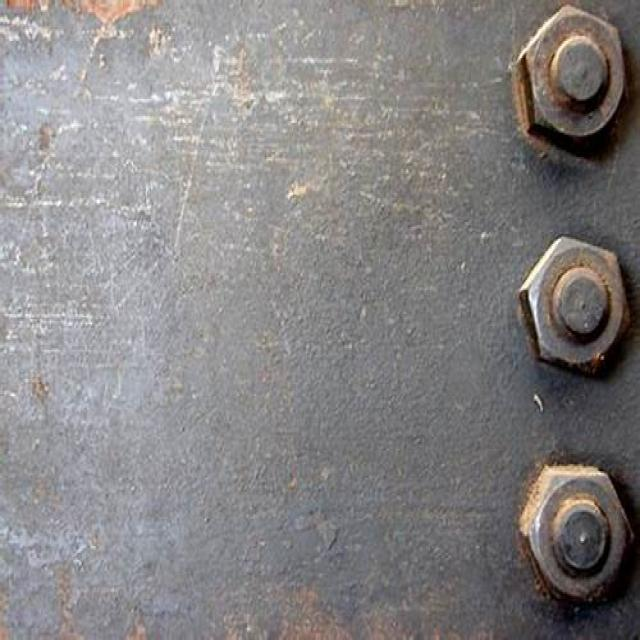bolt nut: (516, 229, 632, 382), (517, 464, 634, 611), (514, 7, 628, 150)
